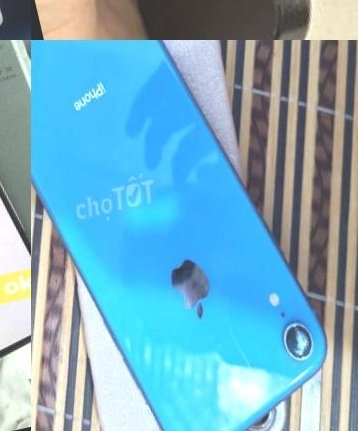scratch: (289, 315, 303, 331)
